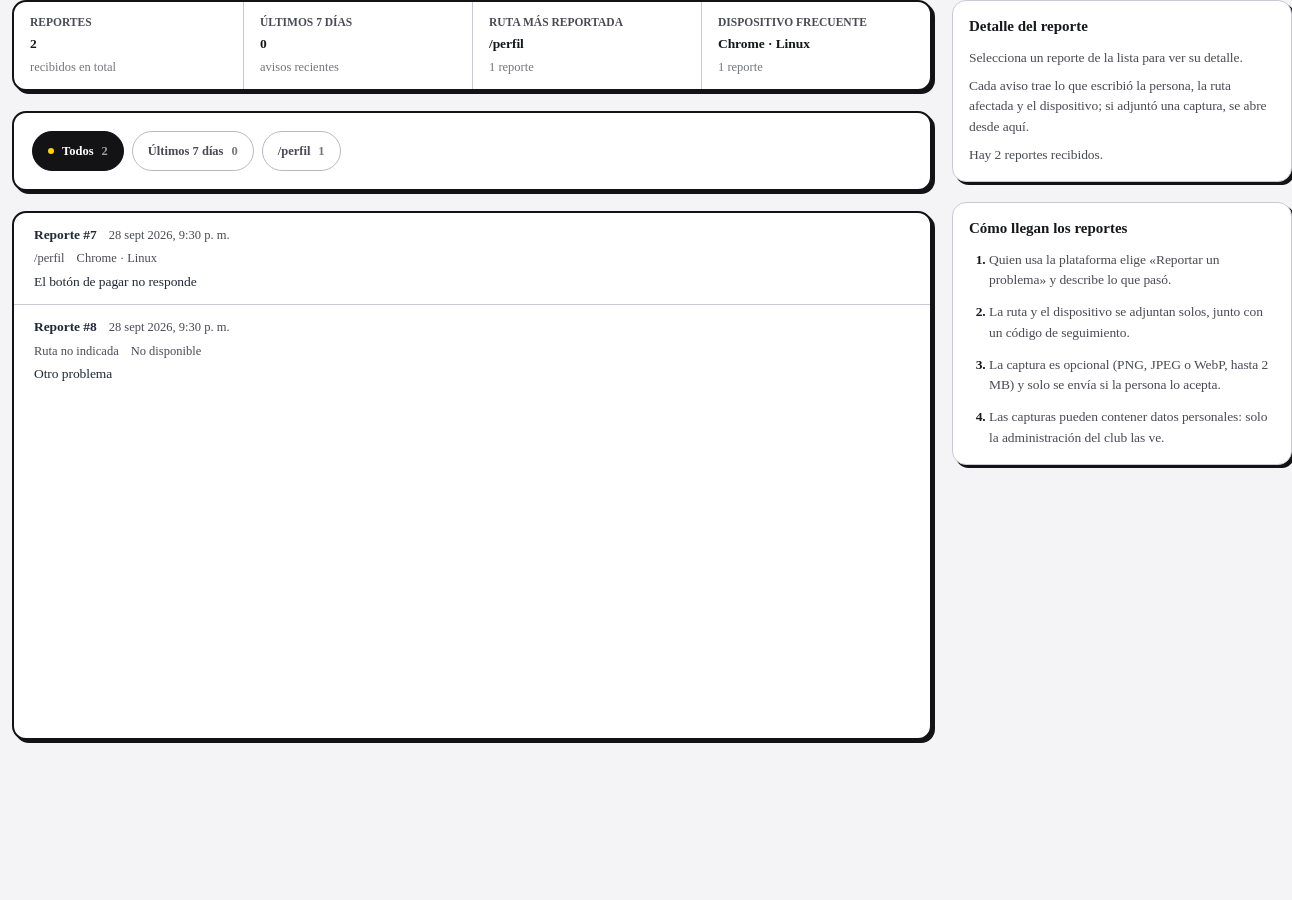
Test: bandeja de reportes › filters the list with the chips
The width and height of the screenshot is (1292, 900).
Expected: the button "Reporte #7" is shown, top-left (14, 213), bottom-right (930, 304)
Click the button "/perfil 1" at point(301, 151), box top-left (262, 131), bottom-right (341, 171)
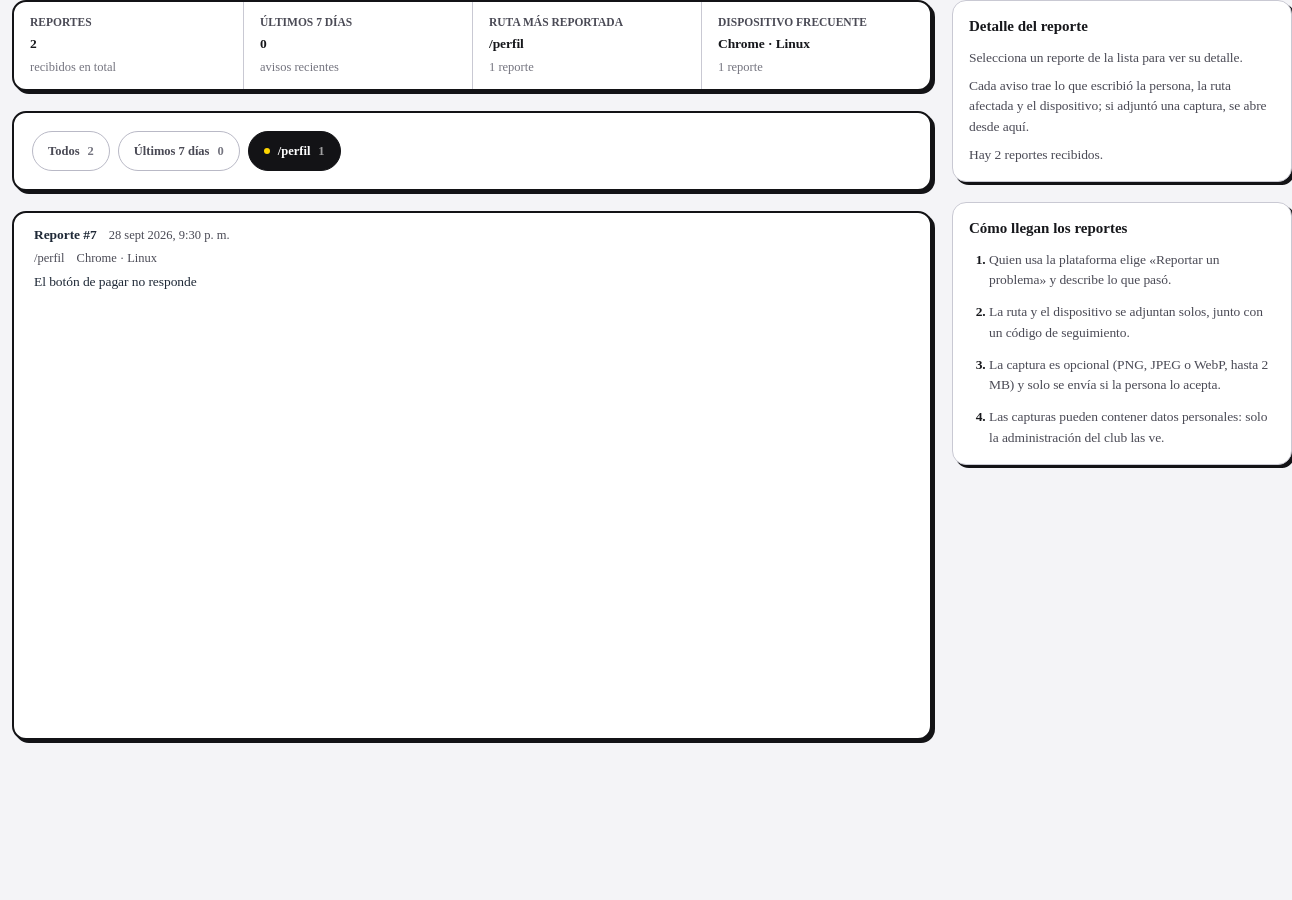
Expected: the button "Reporte #7" is shown, top-left (14, 213), bottom-right (930, 304)
Expected: the button "Reporte #8" is gone
Click the button "Todos 2" at point(71, 151), box top-left (32, 131), bottom-right (110, 171)
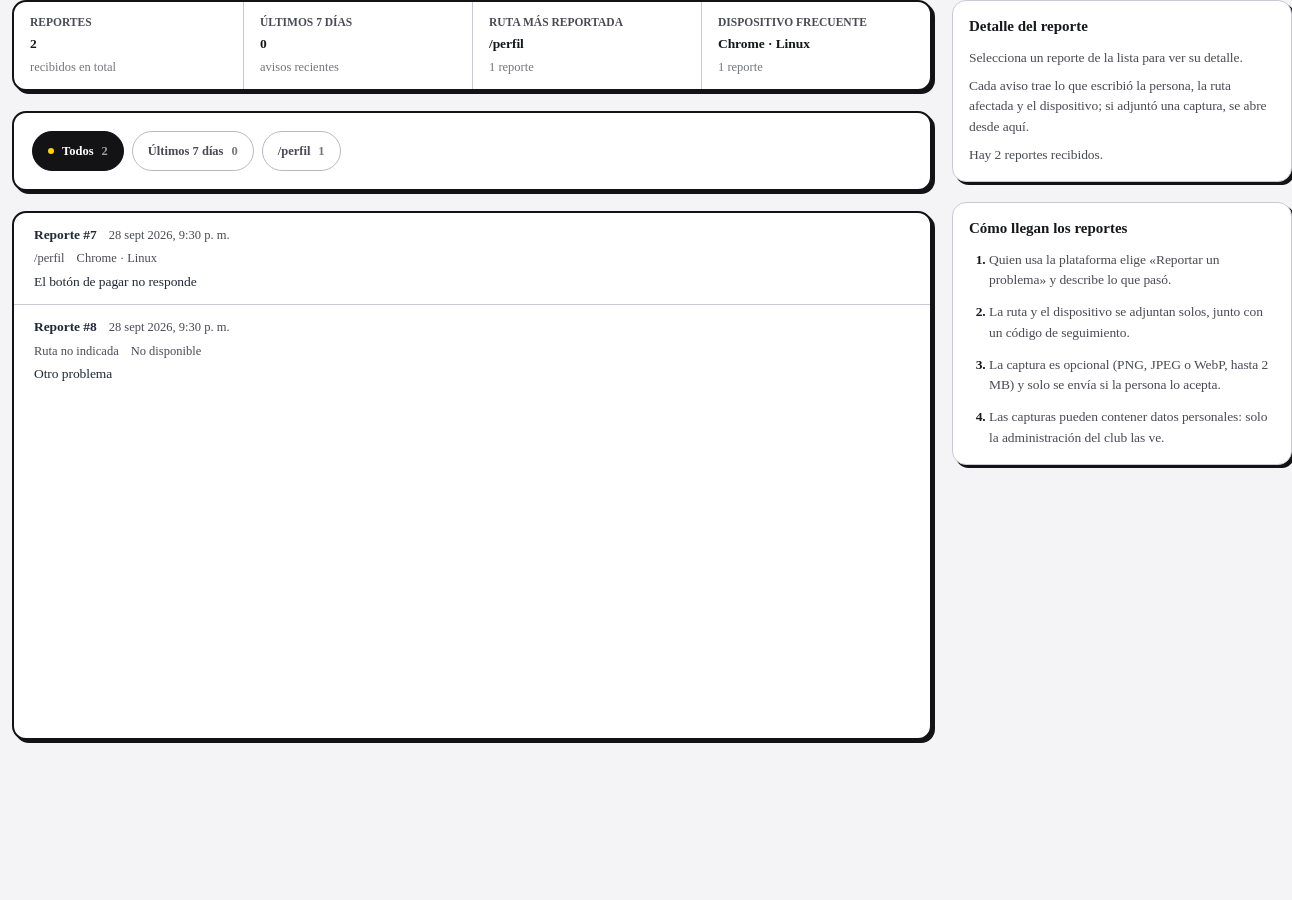
Expected: the button "Reporte #8" is shown, top-left (14, 305), bottom-right (930, 397)
